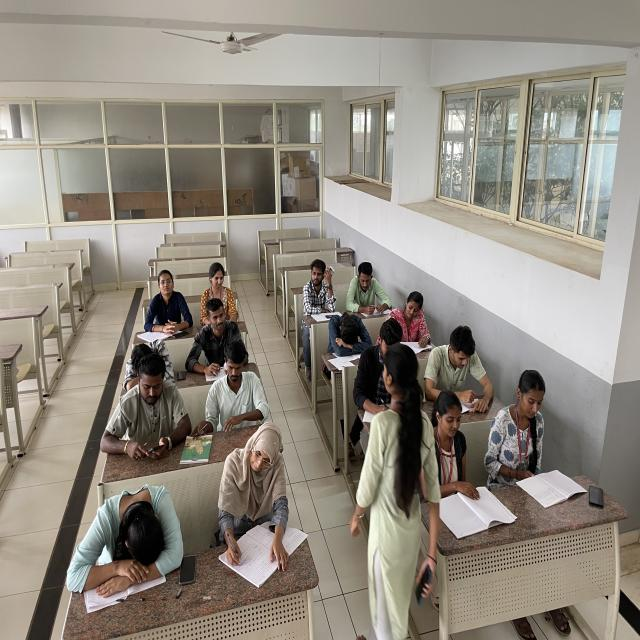Reading: (489, 367, 570, 494), (435, 391, 497, 534), (425, 324, 491, 417), (137, 266, 194, 338)
Sleeping: (66, 480, 192, 611), (113, 338, 179, 382), (326, 309, 374, 355)
Using Phone: (99, 350, 192, 464), (299, 256, 338, 320)
Writing: (208, 421, 296, 577), (191, 335, 269, 448), (390, 286, 435, 354), (345, 259, 395, 315)
